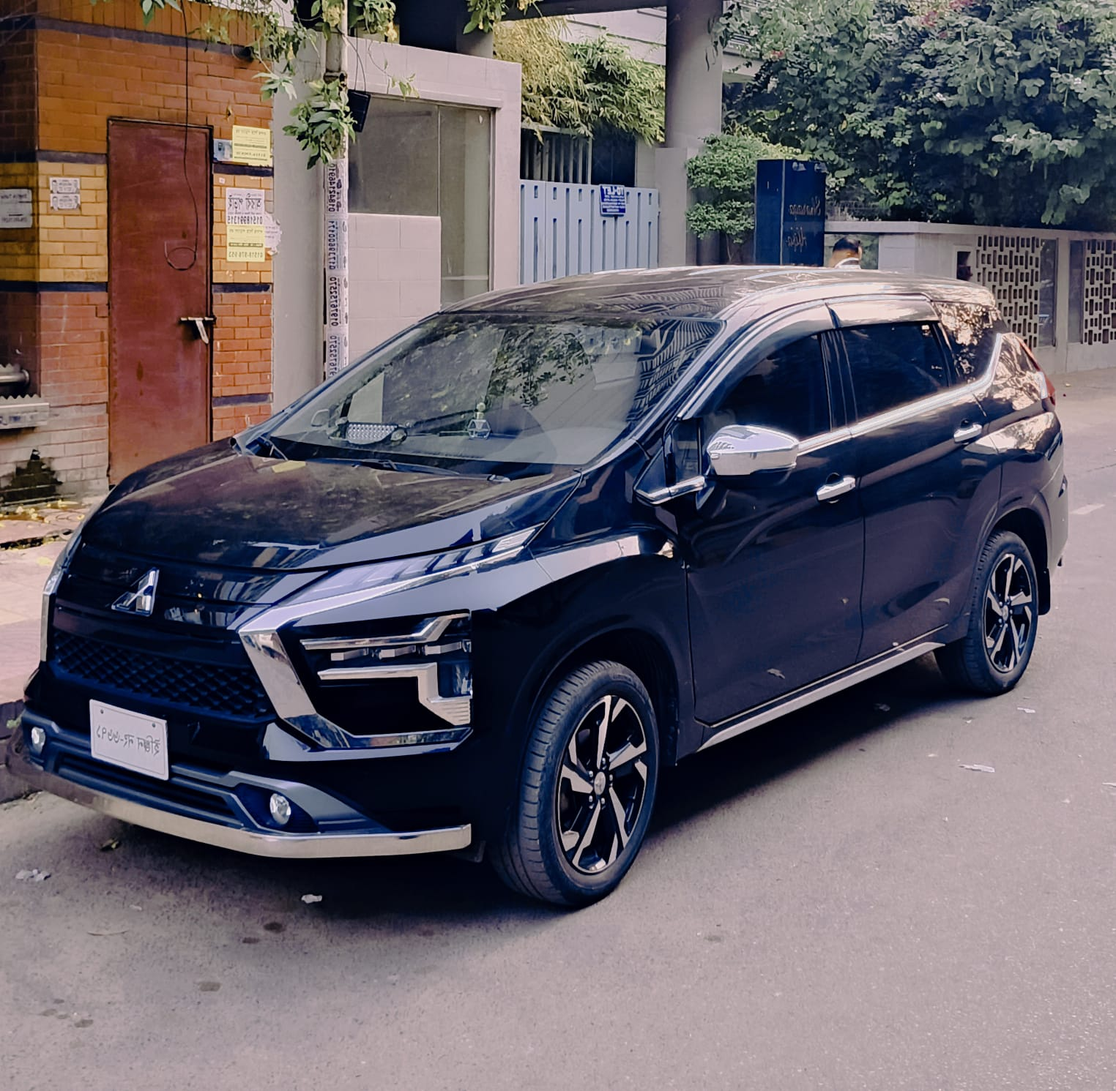private car: (32, 240, 1076, 922)
